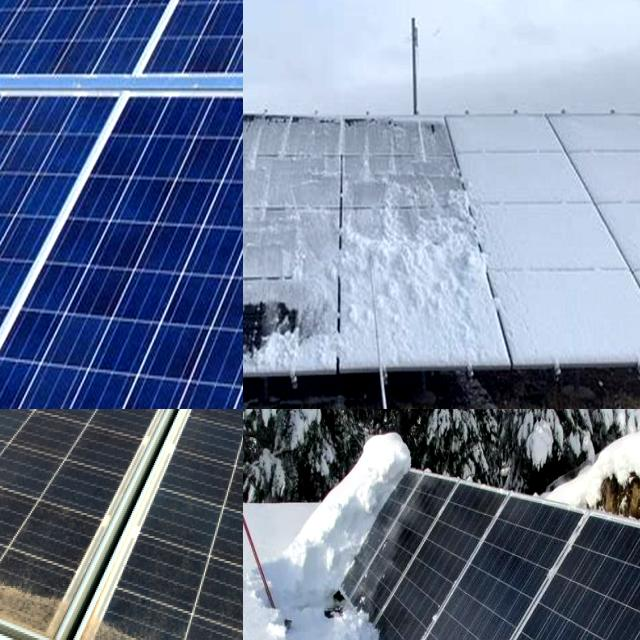crack: (0, 0, 243, 409)
dust: (4, 409, 185, 469), (0, 554, 103, 637), (0, 495, 87, 568), (0, 409, 92, 458)
panel: (280, 423, 414, 640), (406, 265, 496, 363), (512, 275, 602, 363), (348, 172, 468, 226), (563, 111, 640, 184), (487, 189, 560, 264), (243, 162, 340, 218), (243, 287, 311, 357), (243, 112, 335, 163), (346, 111, 446, 153), (243, 228, 309, 285), (326, 318, 394, 368), (333, 239, 384, 304), (458, 124, 549, 154), (243, 292, 269, 385), (603, 212, 640, 273), (243, 254, 302, 292), (570, 194, 598, 266), (243, 269, 304, 299), (243, 136, 288, 162), (243, 132, 273, 166), (243, 180, 262, 217), (243, 176, 266, 201)
